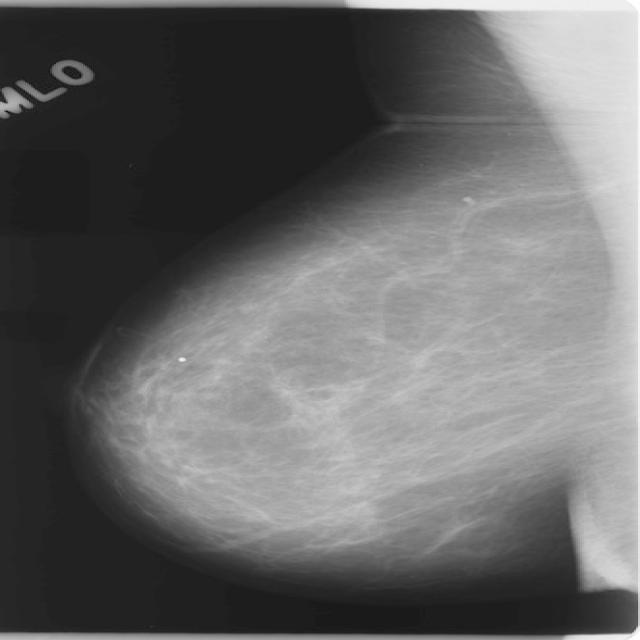tumour: (271, 379, 365, 427)
